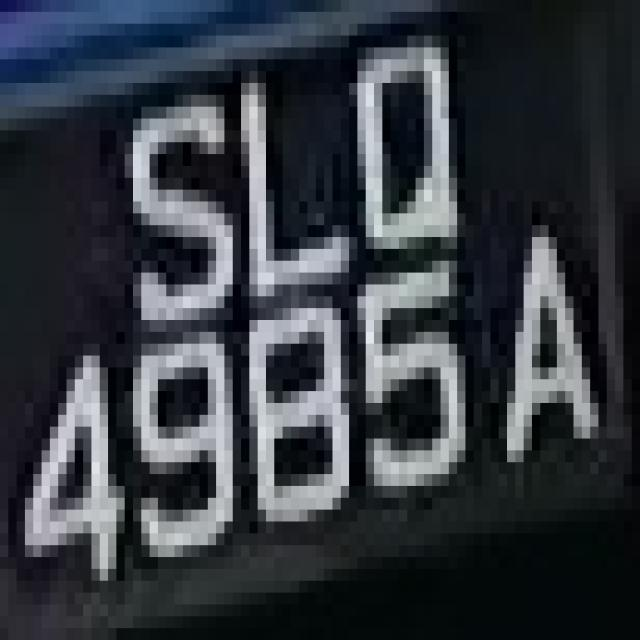4: (25, 332, 141, 604)
5: (341, 237, 457, 510)
8: (241, 284, 374, 569)
9: (116, 308, 250, 557)
A: (465, 201, 607, 486)
L: (216, 71, 341, 308)
Q: (341, 24, 482, 284)
S: (108, 47, 224, 344)
